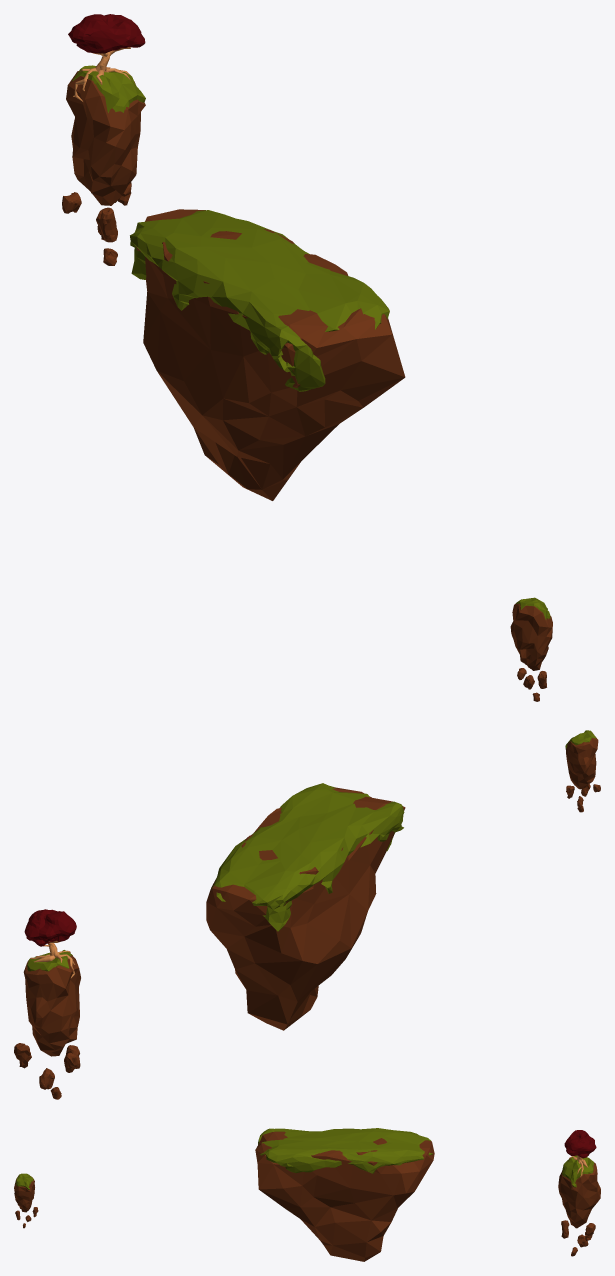
The model's file is Due_Isola1.fbx.
3 renders of one model, top to bottom at view 1: azimuth 30°, elevation 25°; view 2: azimuth 150°, elevation 25°; view 3: azimuth 270°, elevation 25°, orthographic. The views are drawn at different scales.
Parts seen in each view (by area): view 1: Plane.026, Plane.028, Sphere.157, Mball.012, Sphere.084, Sphere.158; view 2: Plane.026, Plane.028, Sphere.157, Mball.012, Sphere.084; view 3: Plane.026, Plane.028, Sphere.157, Mball.012, Sphere.158, Sphere.084, Sphere.085.
Boxes of the visible parts, bbox=[...] form: Plane.026: bbox=[136, 209, 405, 500]; Plane.028: bbox=[130, 210, 389, 391]; Sphere.157: bbox=[66, 71, 145, 205]; Mball.012: bbox=[68, 14, 145, 53]; Sphere.084: bbox=[510, 603, 552, 670]; Sphere.158: bbox=[72, 65, 145, 112]; Plane.026: bbox=[206, 787, 405, 1030]; Plane.028: bbox=[211, 783, 404, 931]; Sphere.157: bbox=[23, 955, 80, 1056]; Mball.012: bbox=[24, 909, 76, 946]; Sphere.084: bbox=[565, 732, 598, 789]; Plane.026: bbox=[255, 1131, 434, 1261]; Plane.028: bbox=[258, 1128, 432, 1173]; Sphere.157: bbox=[558, 1162, 600, 1228]; Mball.012: bbox=[564, 1130, 596, 1158]; Sphere.158: bbox=[562, 1155, 594, 1187]; Sphere.084: bbox=[14, 1175, 34, 1212]; Sphere.085: bbox=[15, 1173, 33, 1189].
Size of the model in its own units: 218 by 339 by 1227.
